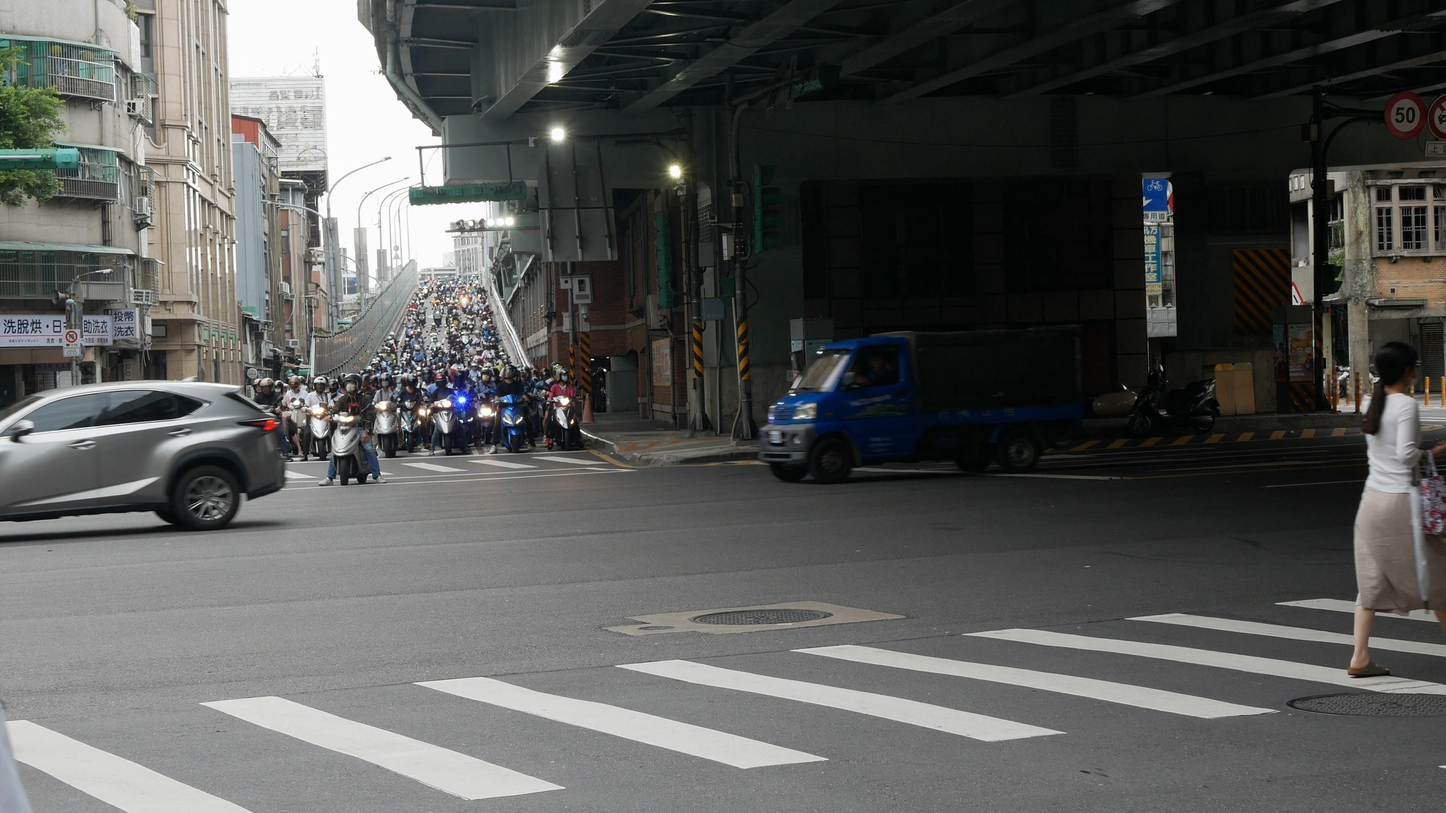driver: (318, 374, 386, 486), (489, 364, 536, 454), (421, 373, 467, 455), (543, 364, 585, 451), (298, 376, 337, 462), (372, 372, 407, 458), (398, 374, 430, 453)
helmet: (344, 374, 363, 394), (379, 372, 392, 393), (260, 378, 275, 395), (313, 377, 327, 394), (453, 369, 466, 387), (503, 364, 517, 379), (434, 373, 447, 389), (556, 368, 569, 383), (288, 375, 300, 391), (327, 379, 339, 394), (406, 374, 418, 389), (480, 367, 492, 382), (252, 378, 263, 394), (553, 364, 564, 380), (275, 380, 284, 393)
no-helmet: (1370, 340, 1419, 395)
